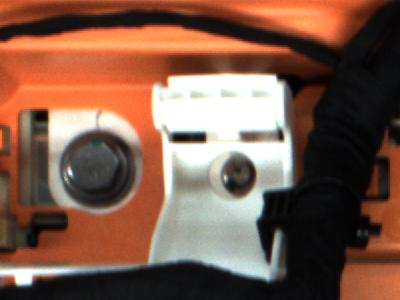nut_b: (56, 132, 147, 208)
